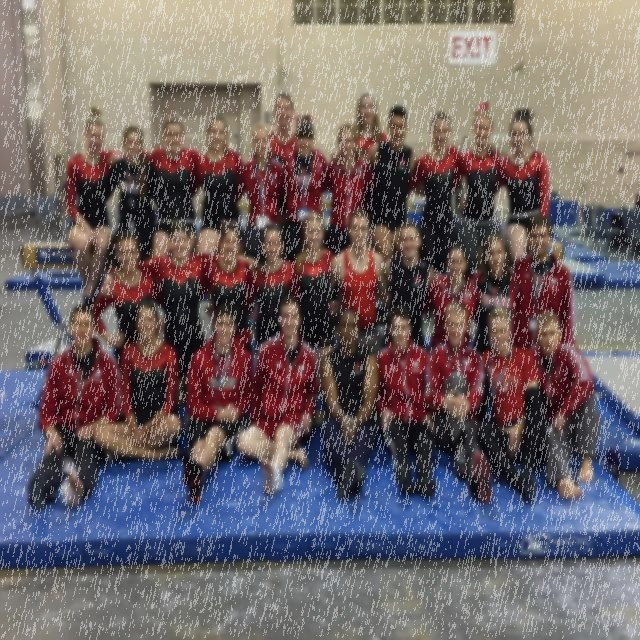pessoa: (98, 218, 268, 412), (24, 302, 124, 512), (105, 113, 234, 262), (233, 293, 322, 498), (200, 122, 326, 265), (178, 300, 253, 508), (90, 298, 183, 464), (406, 108, 496, 276), (424, 300, 494, 506), (475, 306, 547, 506), (526, 308, 600, 501), (62, 104, 126, 308), (243, 222, 339, 356), (318, 304, 382, 504), (374, 304, 438, 500), (88, 230, 166, 373), (458, 109, 550, 226), (361, 105, 426, 262), (102, 121, 164, 271), (327, 206, 388, 358), (511, 212, 577, 350), (454, 106, 504, 278), (382, 220, 444, 356), (190, 112, 243, 255), (320, 123, 378, 250), (202, 222, 254, 356), (282, 115, 330, 259), (422, 244, 482, 352), (467, 232, 517, 356), (294, 210, 338, 349), (352, 86, 388, 155), (267, 90, 299, 166)
